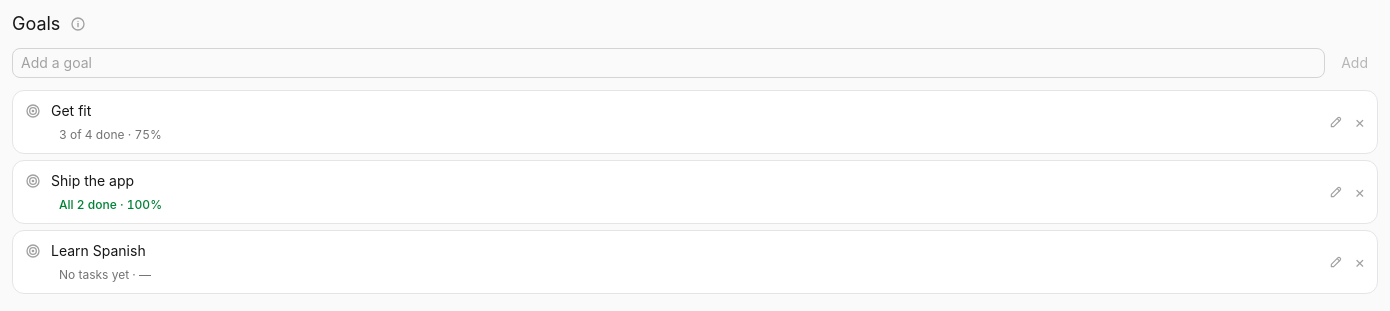
renaming a goal › says so rather than renaming onto another goal's name, keeping the box open (GOAL-4)
Click the button named "Rename the goal \"Get fit\"". click: click(1336, 122)
box: [1324,110,1348,134]
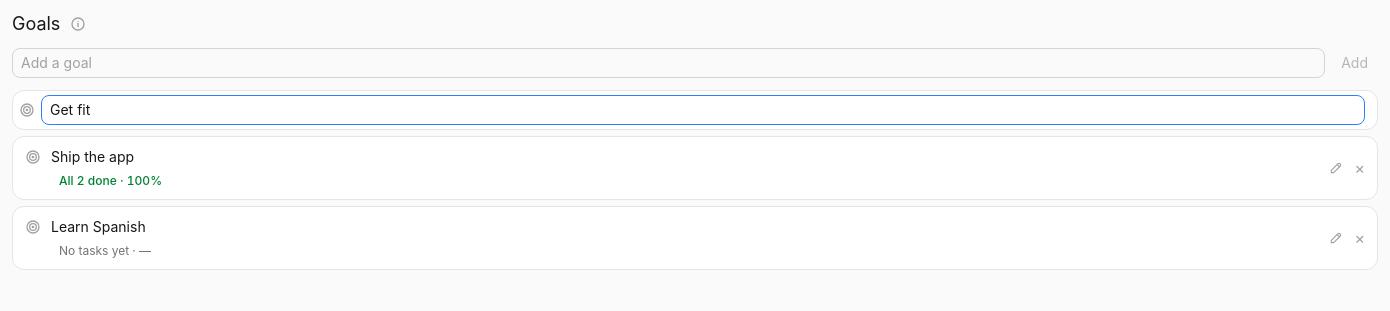
Replace the text in the field named "Name of the goal \"Get fit\"" with "Ship the app". click: (703, 110)
box: [41,95,1365,125]
Then press Enter
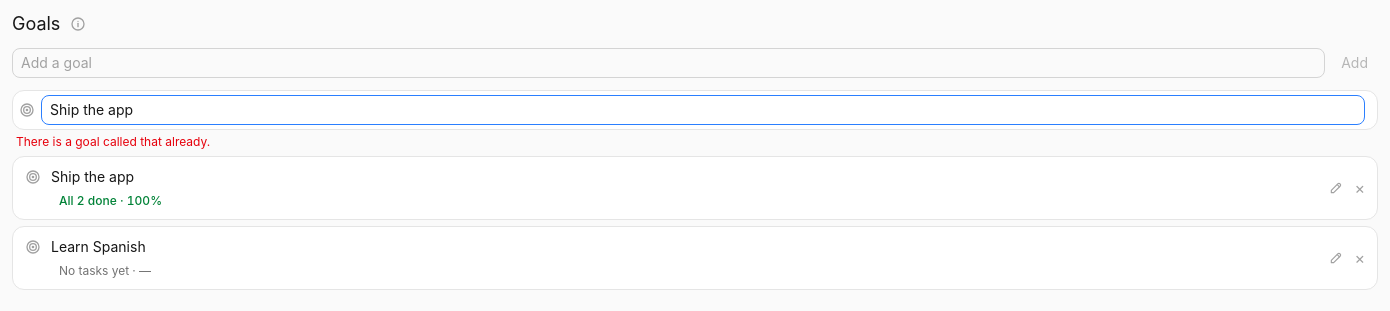
Expected: the message reads "There is a goal called that already.", [16,134,210,149]
